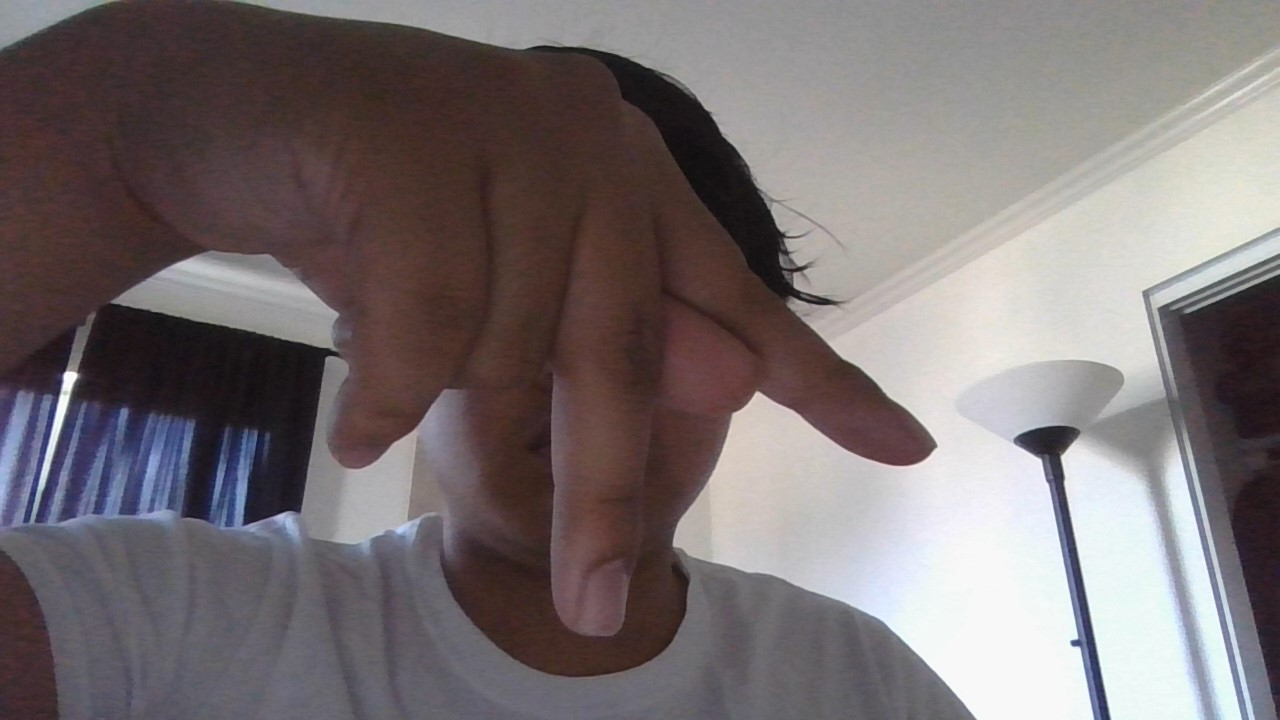p: (68, 1, 958, 672)
